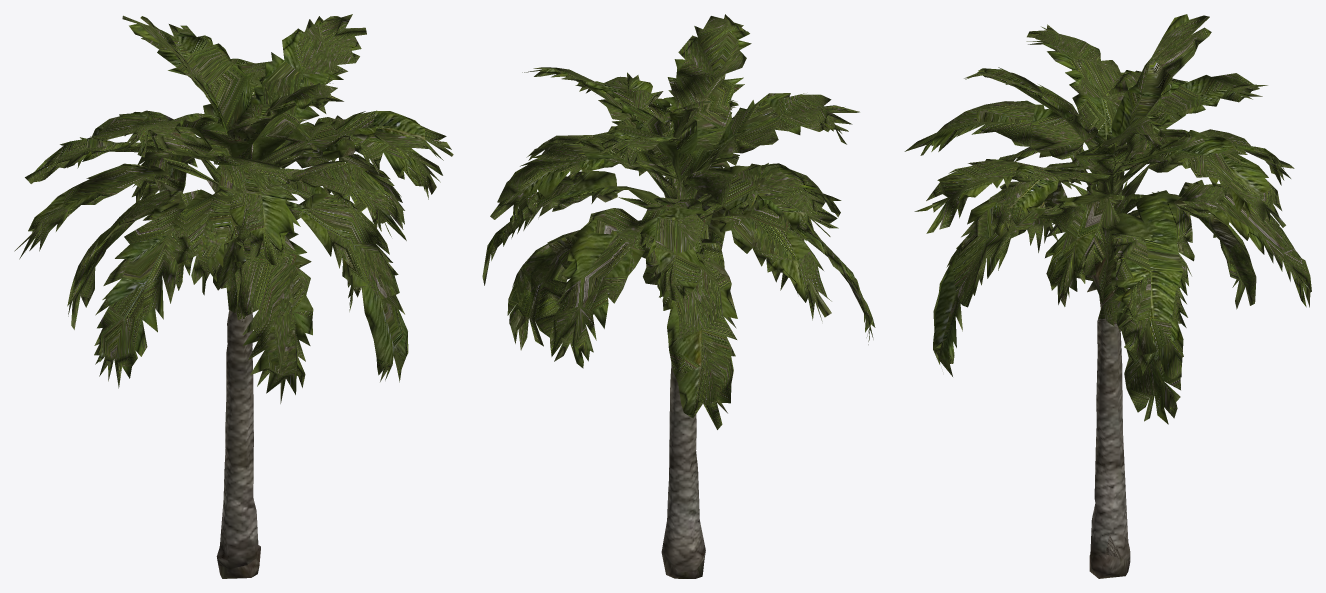
File: palm-tree.glb
3 views of the same model, side by side, from view 1: azimuth 30°, elevation 25°; view 2: azimuth 150°, elevation 25°; view 3: azimuth 270°, elevation 25° (orthographic). The views are drawn at different scales.
Visible parts, largest first — view 1: tripo_node_c4828c13-7c69-4588-9470-deed0985e8c9; view 2: tripo_node_c4828c13-7c69-4588-9470-deed0985e8c9; view 3: tripo_node_c4828c13-7c69-4588-9470-deed0985e8c9.
Part boxes in pixels (bbox=[...]): tripo_node_c4828c13-7c69-4588-9470-deed0985e8c9: bbox=[14, 14, 453, 578]; tripo_node_c4828c13-7c69-4588-9470-deed0985e8c9: bbox=[482, 14, 875, 578]; tripo_node_c4828c13-7c69-4588-9470-deed0985e8c9: bbox=[904, 14, 1311, 578].
Size of the model in its own units: 0.7078 by 0.9744 by 0.6859.
Materials: 1 (1 with a texture image).
